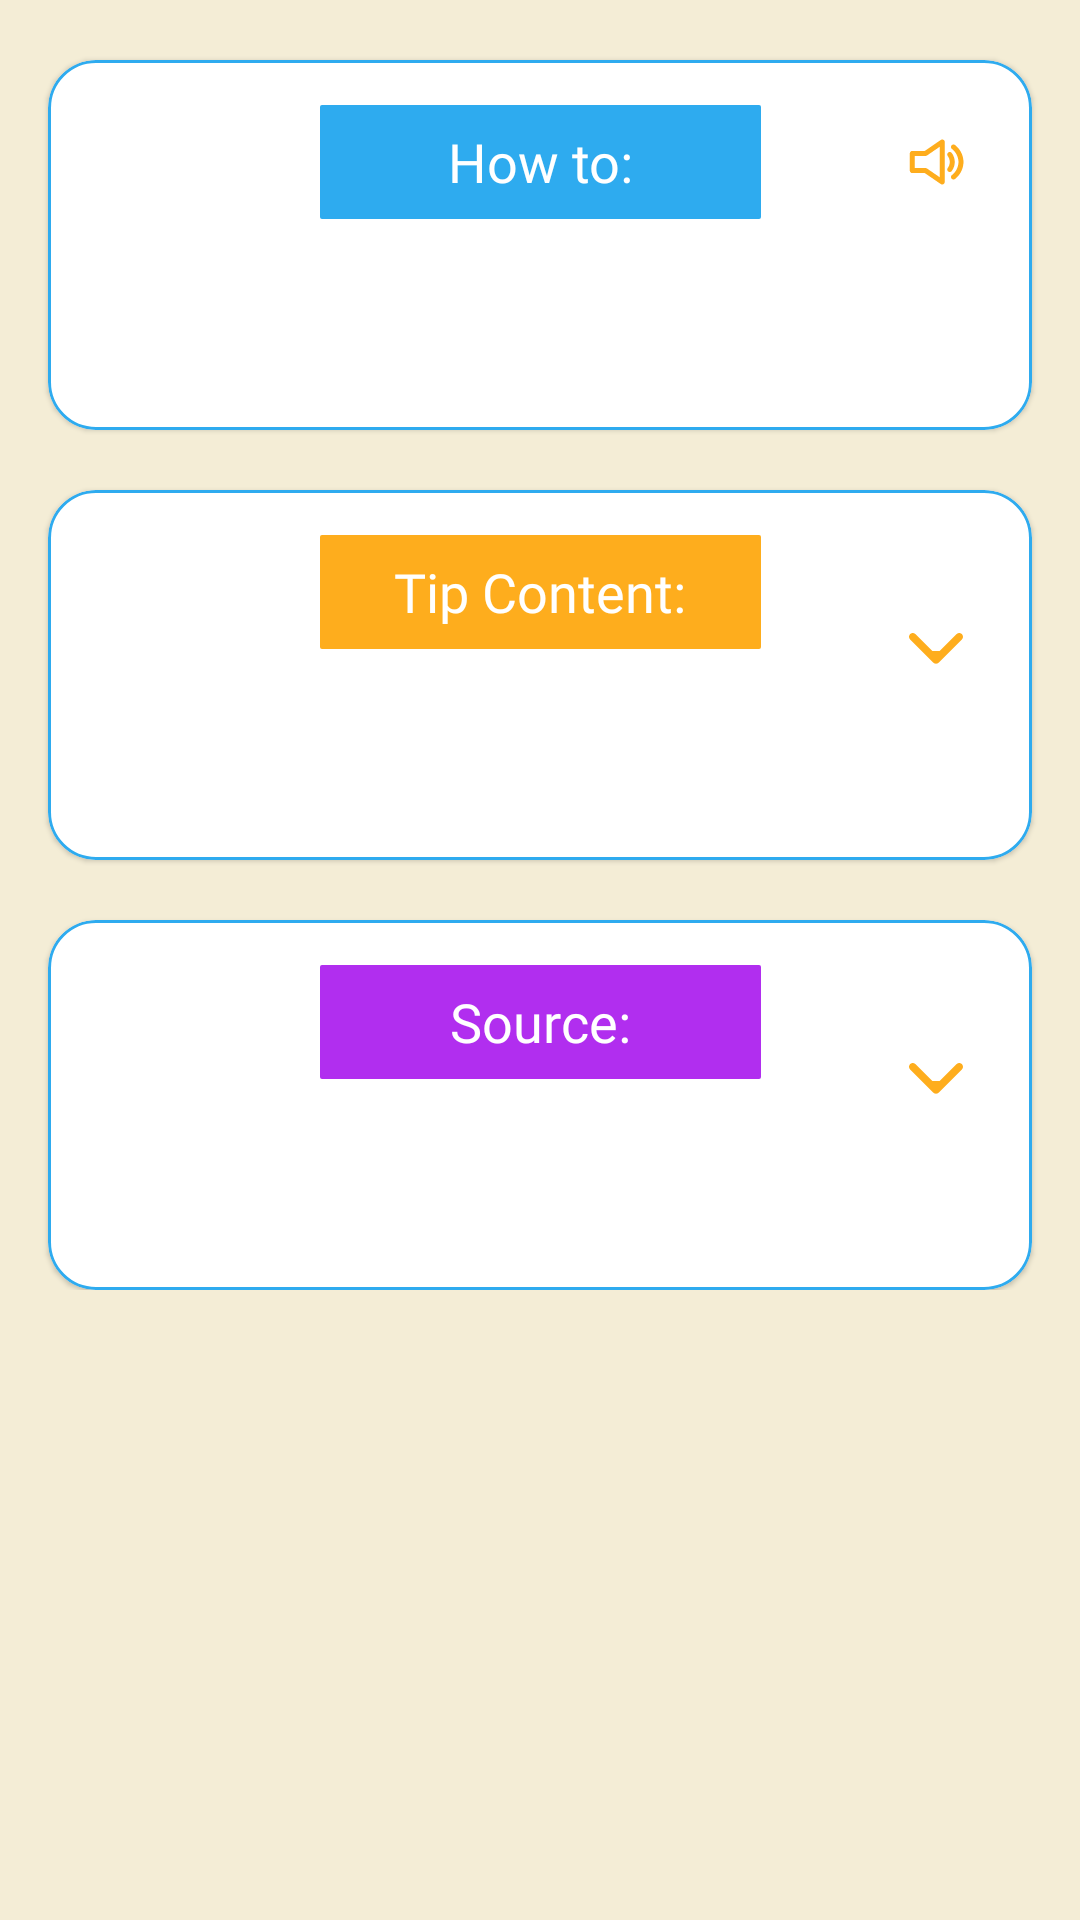

Locate icon controls on the screen. Image size 1080x1920, boxes as (x1, y1, x2, y2).
Button to Speak Text: (909, 139, 964, 185)
image button arrow down: (909, 633, 963, 664), (909, 1063, 963, 1094)
